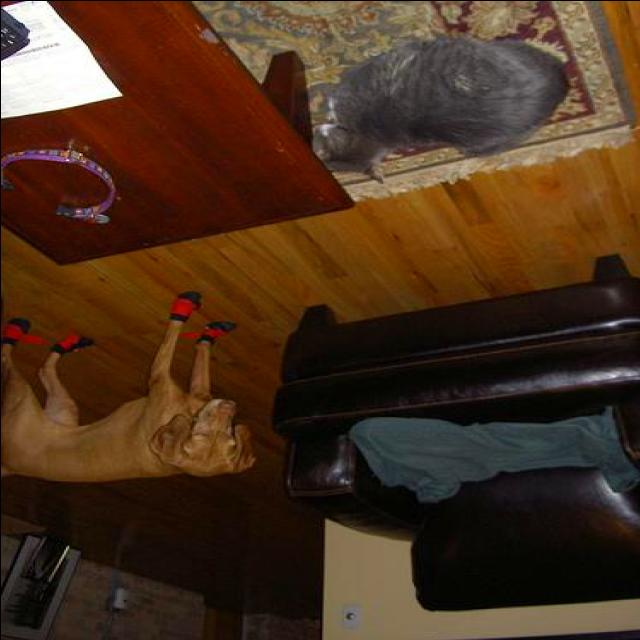vizsla: (1, 288, 252, 487)
